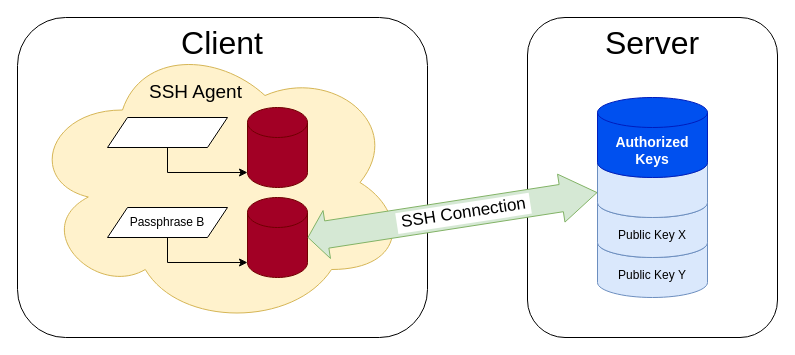
The diagram is 795 pixels wide and 355 high, and some of its shapes have lost their labels. Here are the shapes that lost their labels. From the top down, the centre of each, then its label:
At (x=167, y=132): "Passphrase A".
At (x=277, y=147): "Private Key A".
At (x=652, y=182): "Public Key B".
At (x=277, y=237): "Private Key B".
